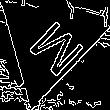M_SW: (13, 12, 81, 80)
